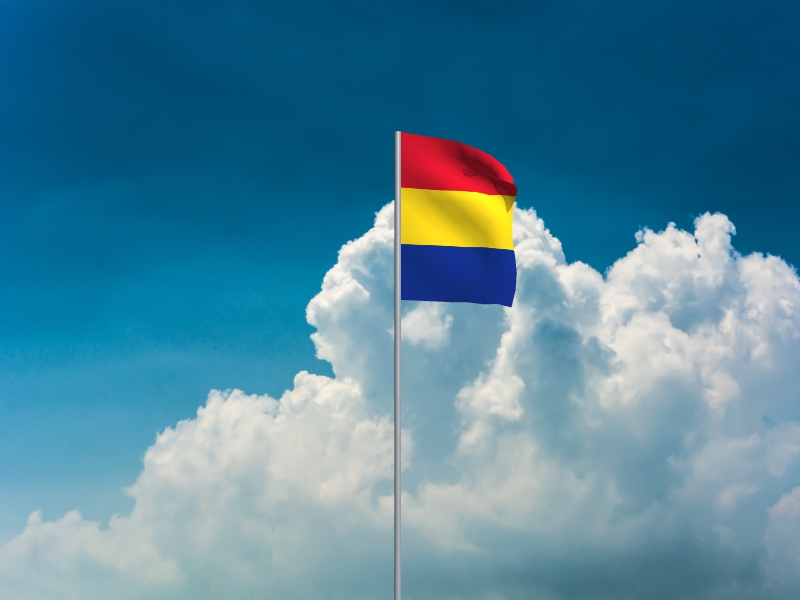ro: (401, 133, 518, 309)
